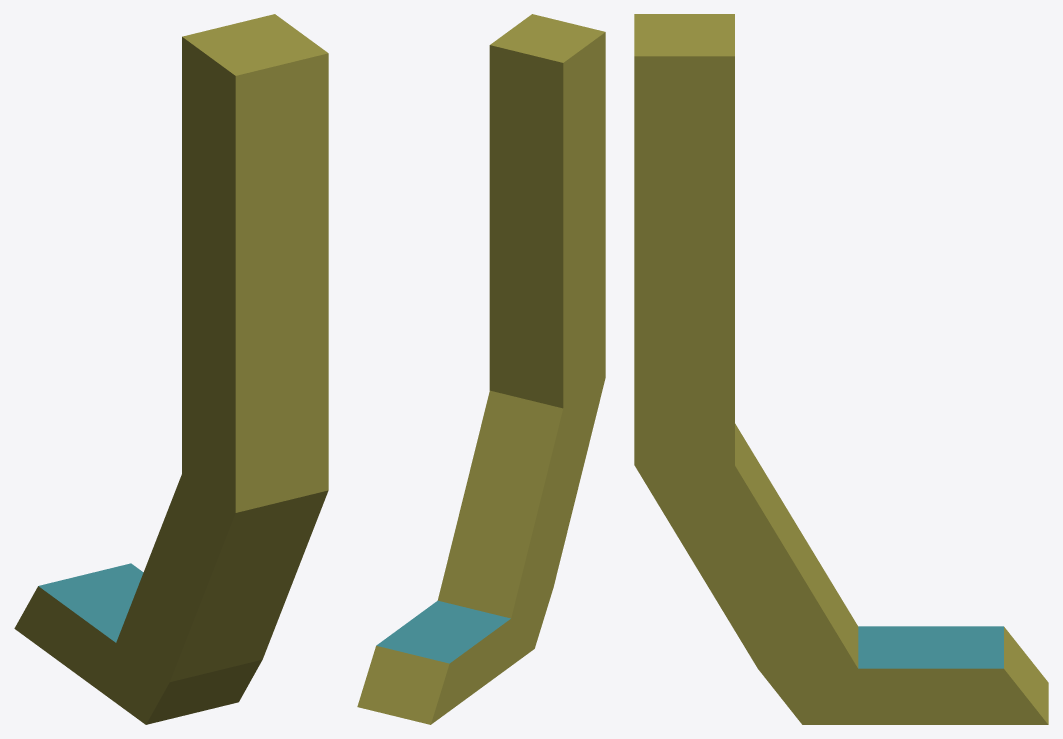
File: POST00.obj
3 views of the same model, side by side, from view 1: azimuth 30°, elevation 25°; view 2: azimuth 150°, elevation 25°; view 3: azimuth 270°, elevation 25° (orthographic). The views are drawn at different scales.
Visible parts, largest first — view 1: Cube.011_Cube.012; view 2: Cube.011_Cube.012; view 3: Cube.011_Cube.012.
Part boxes in pixels (x1,y1,x2,y2): Cube.011_Cube.012: (14, 14, 328, 724); Cube.011_Cube.012: (357, 14, 605, 724); Cube.011_Cube.012: (634, 14, 1048, 724).
Bounding box in the file's own units: 20 × 147 × 82.5.
